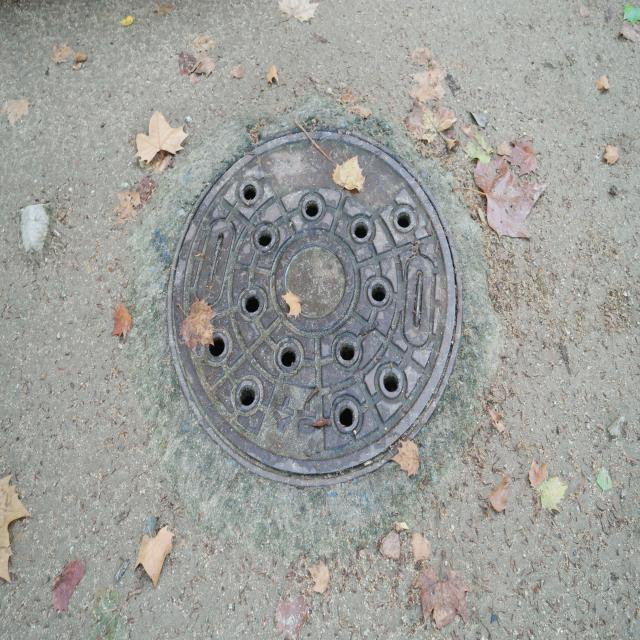manhole: (169, 130, 460, 485)
